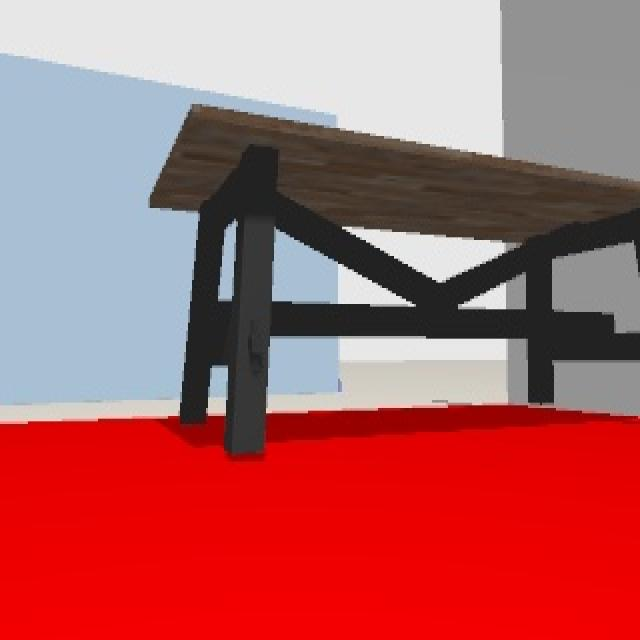dining: (150, 106, 640, 464)
